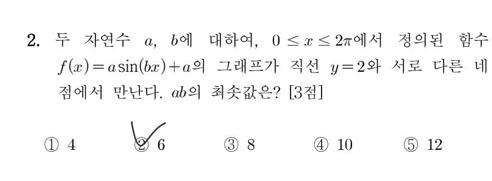1: (128, 119, 157, 155)
paper: (41, 135, 60, 155), (131, 135, 150, 155), (222, 135, 241, 155), (311, 135, 330, 155), (401, 135, 420, 155)
